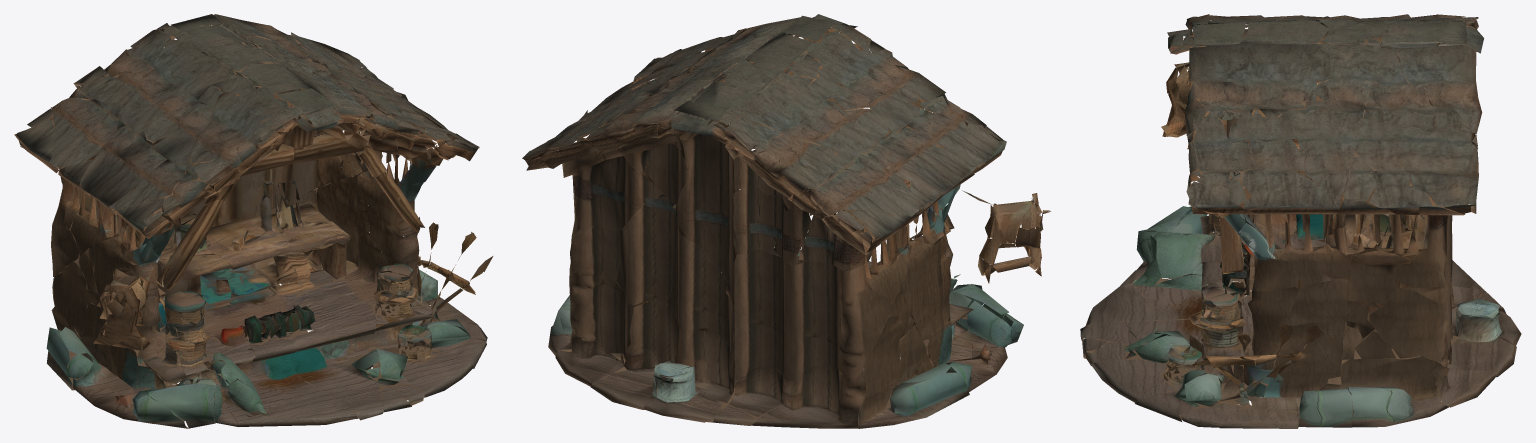
File: mesh_trapworks_a.glb
3 renders of one model, left to right at view 1: azimuth 30°, elevation 25°; view 2: azimuth 150°, elevation 25°; view 3: azimuth 270°, elevation 25°, orthographic. The views are drawn at different scales.
Parts seen in each view (by area): view 1: mesh_trapworks_a__mesh_trapworks_a__Mesh_0; view 2: mesh_trapworks_a__mesh_trapworks_a__Mesh_0; view 3: mesh_trapworks_a__mesh_trapworks_a__Mesh_0.
Part boxes in pixels (x1,y1,x2,y2): mesh_trapworks_a__mesh_trapworks_a__Mesh_0: (14, 14, 493, 428); mesh_trapworks_a__mesh_trapworks_a__Mesh_0: (522, 14, 1050, 428); mesh_trapworks_a__mesh_trapworks_a__Mesh_0: (1080, 14, 1521, 428).
Bounding box in the file's own units: 16 × 10.62 × 13.98.
1 material, 1 textured.
